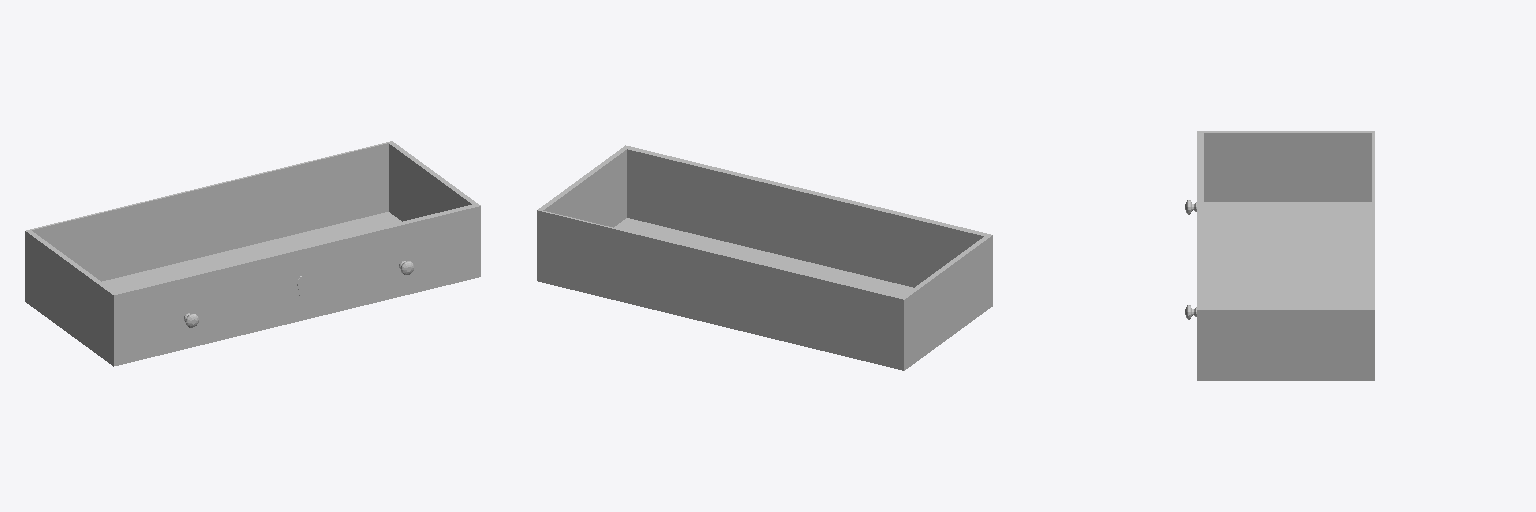
The model's file is DrawerFourth.obj.
3 views of the same model, side by side, from view 1: azimuth 30°, elevation 25°; view 2: azimuth 150°, elevation 25°; view 3: azimuth 270°, elevation 25° (orthographic).
Parts seen in each view (by area): view 1: Plane_007; view 2: Plane_007; view 3: Plane_007.
Boxes of the visible parts, box(x1,y1,x2,y2) form: Plane_007: box(25, 141, 480, 366); Plane_007: box(537, 145, 992, 370); Plane_007: box(1185, 131, 1374, 380).
Bounding box in the file's own units: 1.19 × 0.2199 × 0.53.